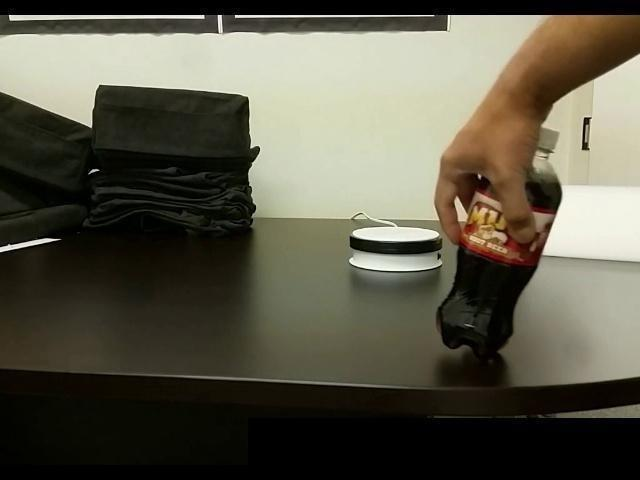bottle-plastic: (431, 122, 566, 368)
